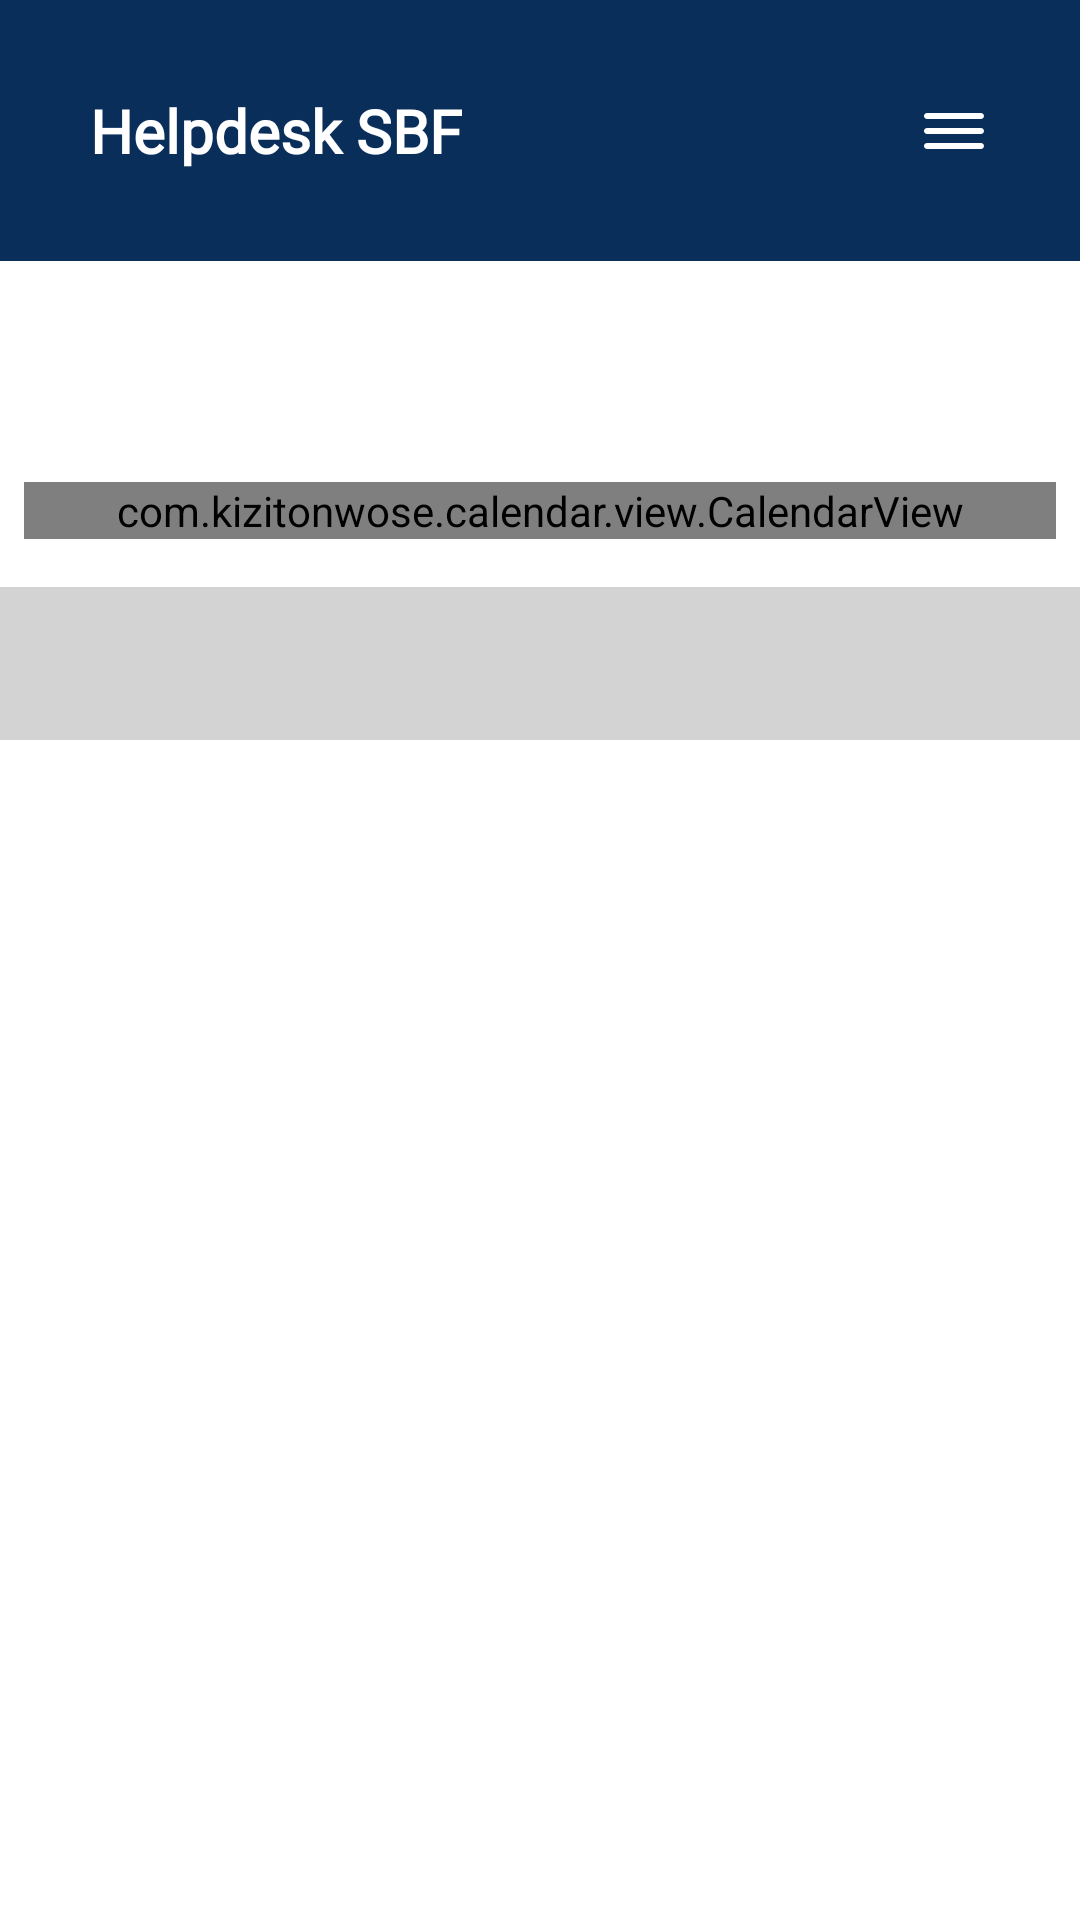

Icons on this 1080 x 1920 Android screen, each with its box as (x1, y1, x2, y2):
dehaze: (924, 113, 984, 149)
